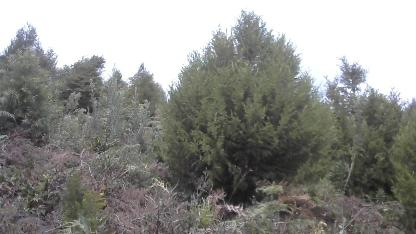tree: (159, 6, 337, 201)
